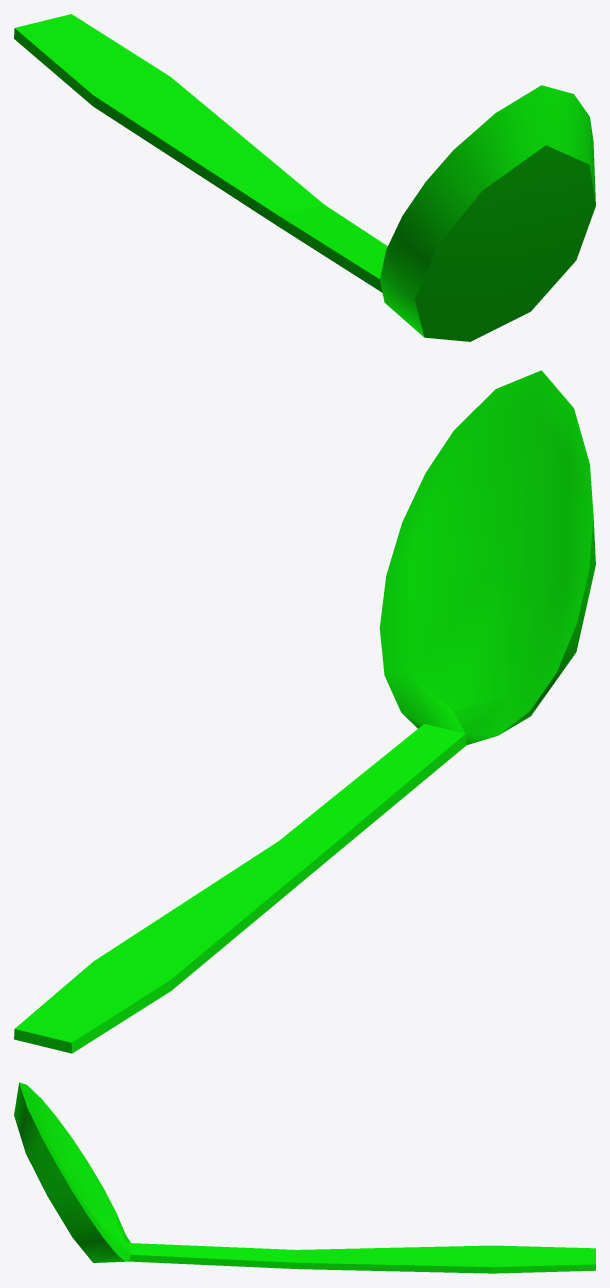
The model's file is SM_KitchenTool_08_Collider.fbx.
The picture shows the model from 3 angles, top to bottom: view 1: azimuth 30°, elevation 25°; view 2: azimuth 150°, elevation 25°; view 3: azimuth 270°, elevation 25°; orthographic projection. The views are drawn at different scales.
Parts seen in each view (by area): view 1: SM_KitchenTool_08_Collider; view 2: SM_KitchenTool_08_Collider; view 3: SM_KitchenTool_08_Collider.
Boxes of the visible parts, left/top/right/bottom form: SM_KitchenTool_08_Collider: left=14, top=14, right=595, bottom=341; SM_KitchenTool_08_Collider: left=14, top=370, right=595, bottom=1053; SM_KitchenTool_08_Collider: left=14, top=1082, right=595, bottom=1273.
Bounding box in the file's own units: 9.67 × 15.06 × 44.09.
